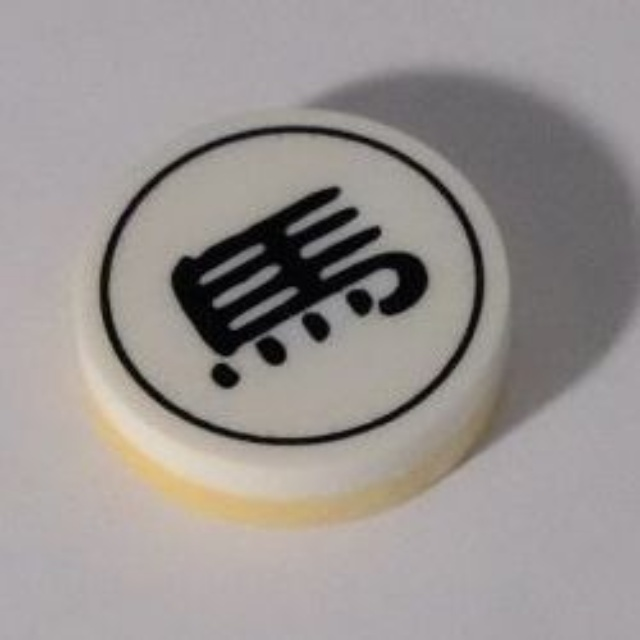black_ma: (74, 103, 511, 532)
